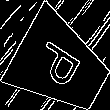P_SE: (32, 37, 90, 94)
